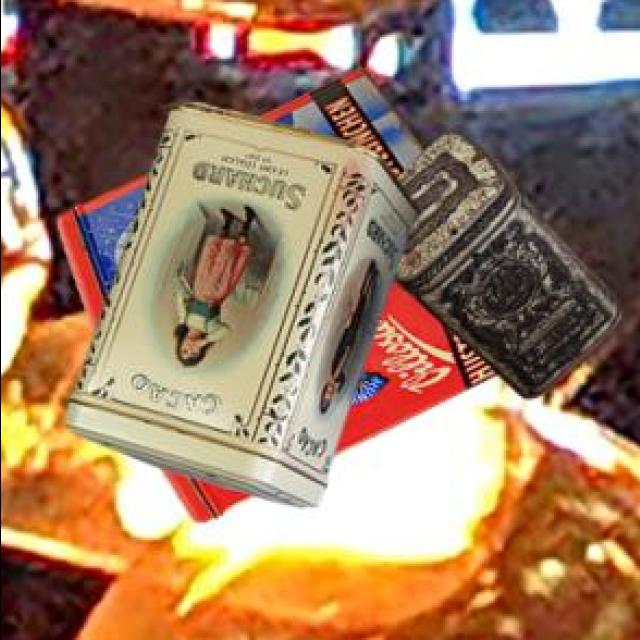logam: (53, 69, 493, 526), (60, 108, 415, 510), (389, 136, 617, 402)
